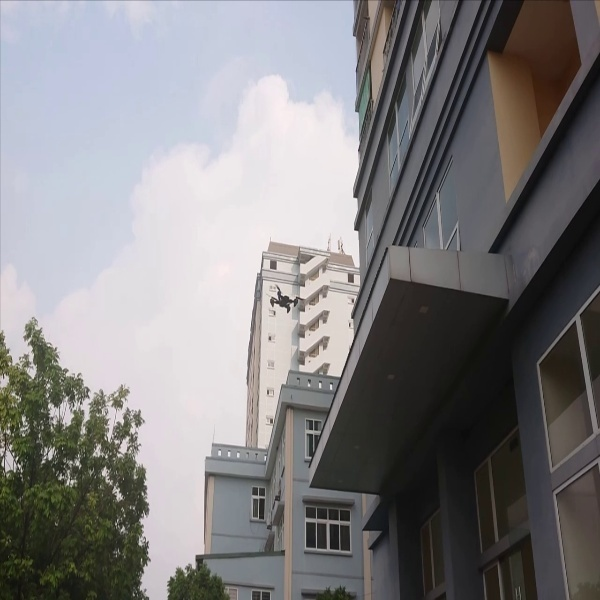drone: (264, 282, 309, 320)
